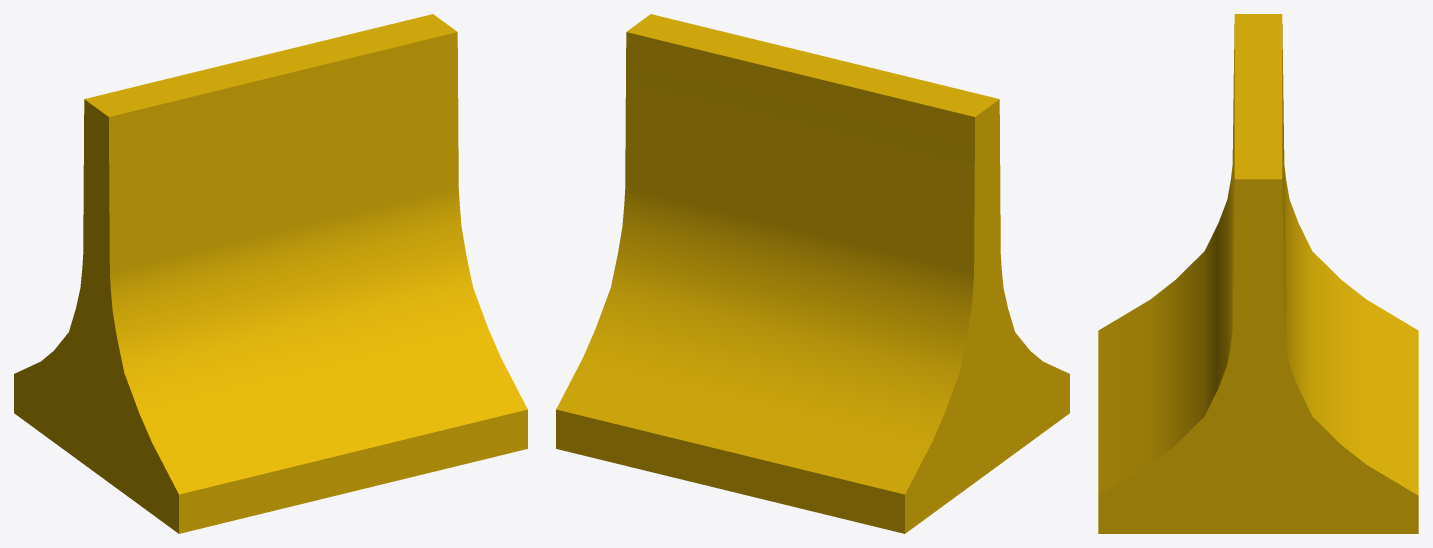
File: ConcreateBlock.fbx
3 views of the same model, side by side, from view 1: azimuth 30°, elevation 25°; view 2: azimuth 150°, elevation 25°; view 3: azimuth 270°, elevation 25° (orthographic). The views are drawn at different scales.
Visible parts, largest first — view 1: pCube33; view 2: pCube33; view 3: pCube33.
Boxes of the visible parts, x1,y1,x2,y2 form: pCube33: (14, 14, 527, 533); pCube33: (556, 14, 1069, 533); pCube33: (1098, 14, 1418, 533).
Bounding box in the file's own units: 330 × 330 × 270.
